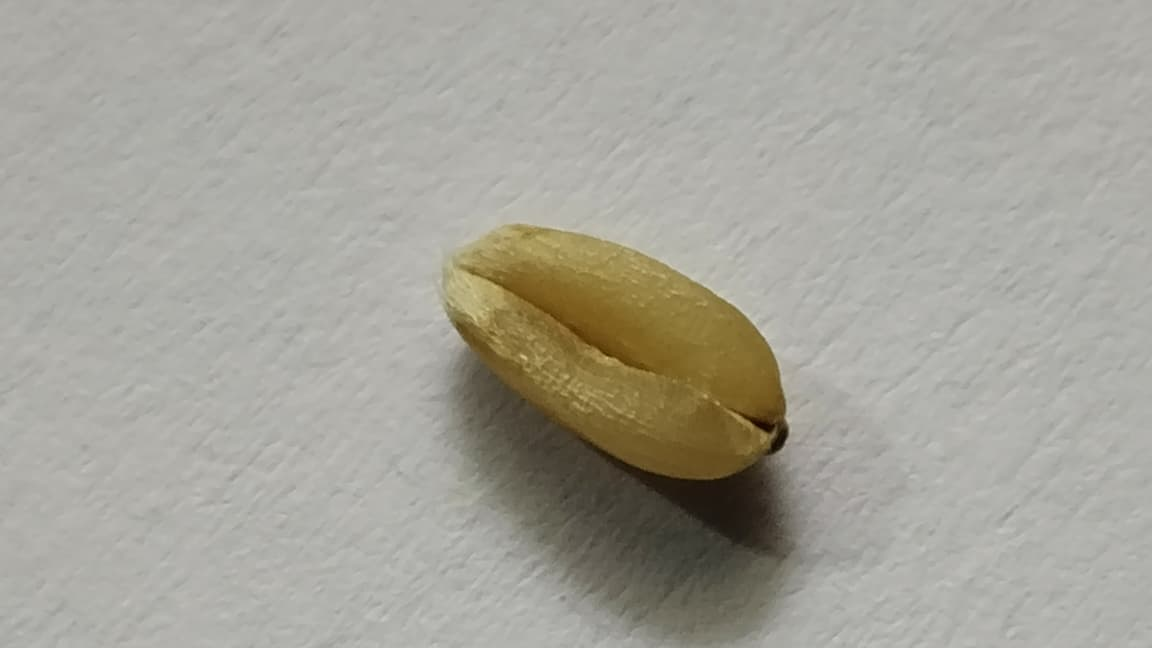healthy: (439, 222, 788, 480)
